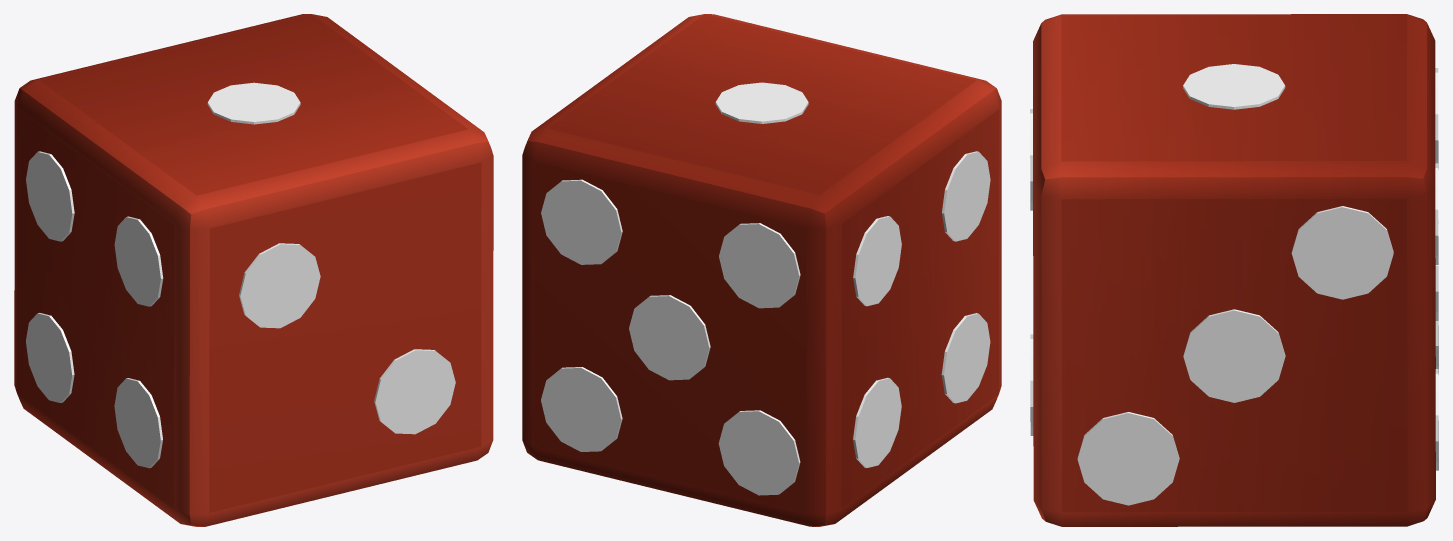
File: Dice_red_anim_01.fbx
3 views of the same model, side by side, from view 1: azimuth 30°, elevation 25°; view 2: azimuth 150°, elevation 25°; view 3: azimuth 270°, elevation 25° (orthographic). The views are drawn at different scales.
Parts seen in each view (by area): view 1: pCube10; view 2: pCube10; view 3: pCube10.
Part boxes in pixels (x1,y1,x2,y2): pCube10: [14, 14, 493, 526]; pCube10: [522, 14, 1001, 526]; pCube10: [1030, 14, 1438, 526].
Size of the model in its own units: 2.03 by 2.03 by 2.03.
Materials: 1 (1 with a texture image).
